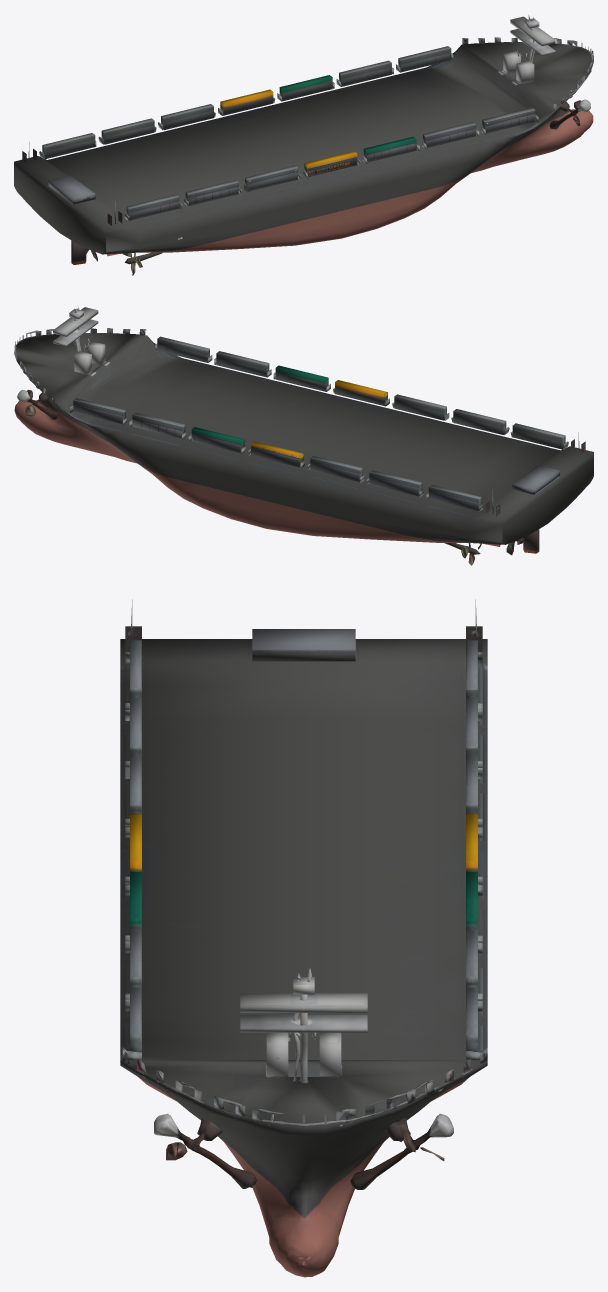
The model's file is selected.glb.
The picture shows the model from 3 angles, top to bottom: view 1: azimuth 30°, elevation 25°; view 2: azimuth 150°, elevation 25°; view 3: azimuth 270°, elevation 25°; orthographic projection. The views are drawn at different scales.
Parts seen in each view (by area): view 1: tripo_node_b76c5dac-eddd-4ba5-b9af-a5269d5d1dc3; view 2: tripo_node_b76c5dac-eddd-4ba5-b9af-a5269d5d1dc3; view 3: tripo_node_b76c5dac-eddd-4ba5-b9af-a5269d5d1dc3.
Part boxes in pixels (left/top/right/bottom): tripo_node_b76c5dac-eddd-4ba5-b9af-a5269d5d1dc3: left=14, top=14, right=593, bottom=275; tripo_node_b76c5dac-eddd-4ba5-b9af-a5269d5d1dc3: left=14, top=305, right=593, bottom=565; tripo_node_b76c5dac-eddd-4ba5-b9af-a5269d5d1dc3: left=120, top=599, right=487, bottom=1277.
Bounding box in the file's own units: 0.998 × 0.2559 × 0.2988.
1 material, 1 textured.
